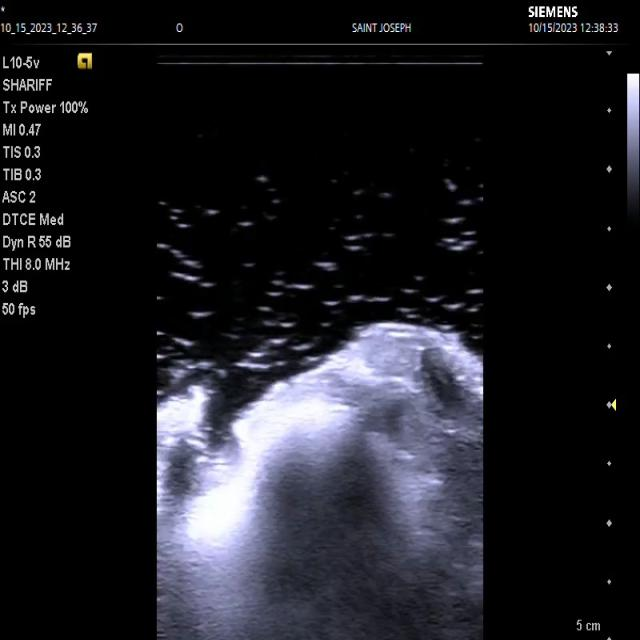tissue: (158, 317, 482, 640)
